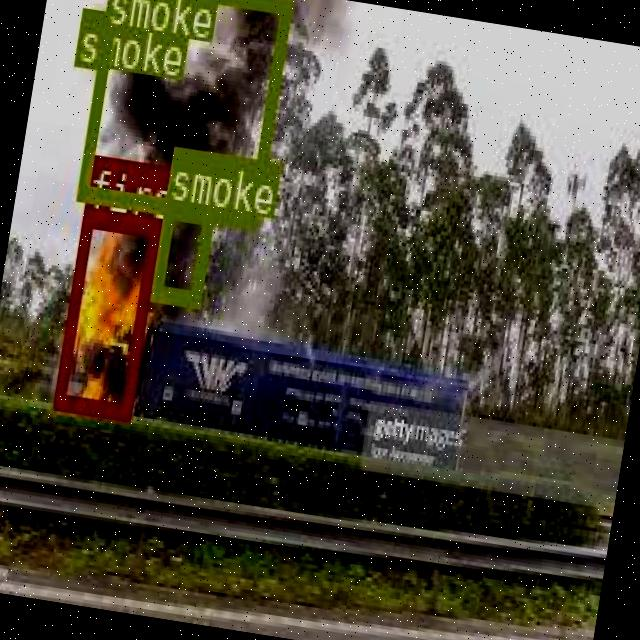fire: (53, 209, 158, 418)
smoke: (75, 0, 290, 225), (149, 200, 213, 303), (72, 6, 106, 64)
